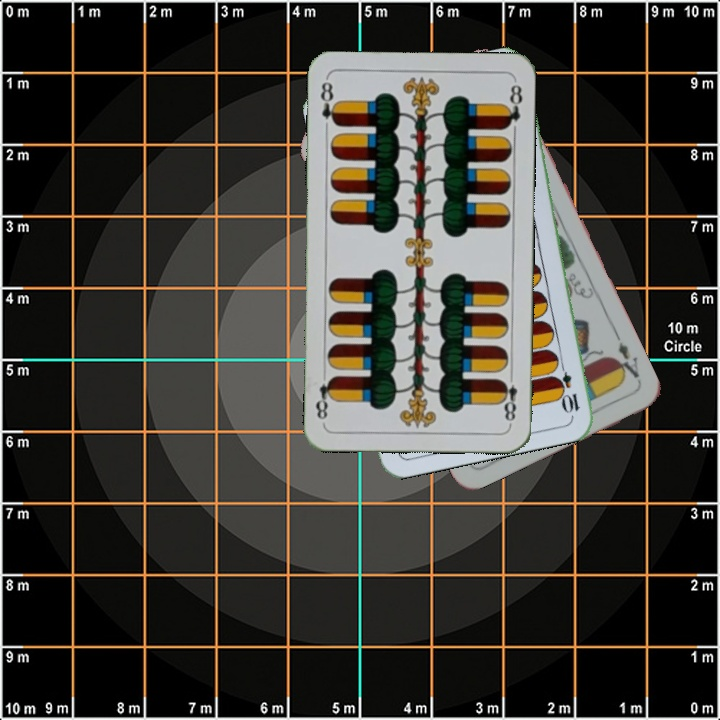E10: (554, 357, 582, 416)
E8: (497, 368, 520, 427), (316, 76, 341, 129)
EA: (609, 338, 642, 383)
